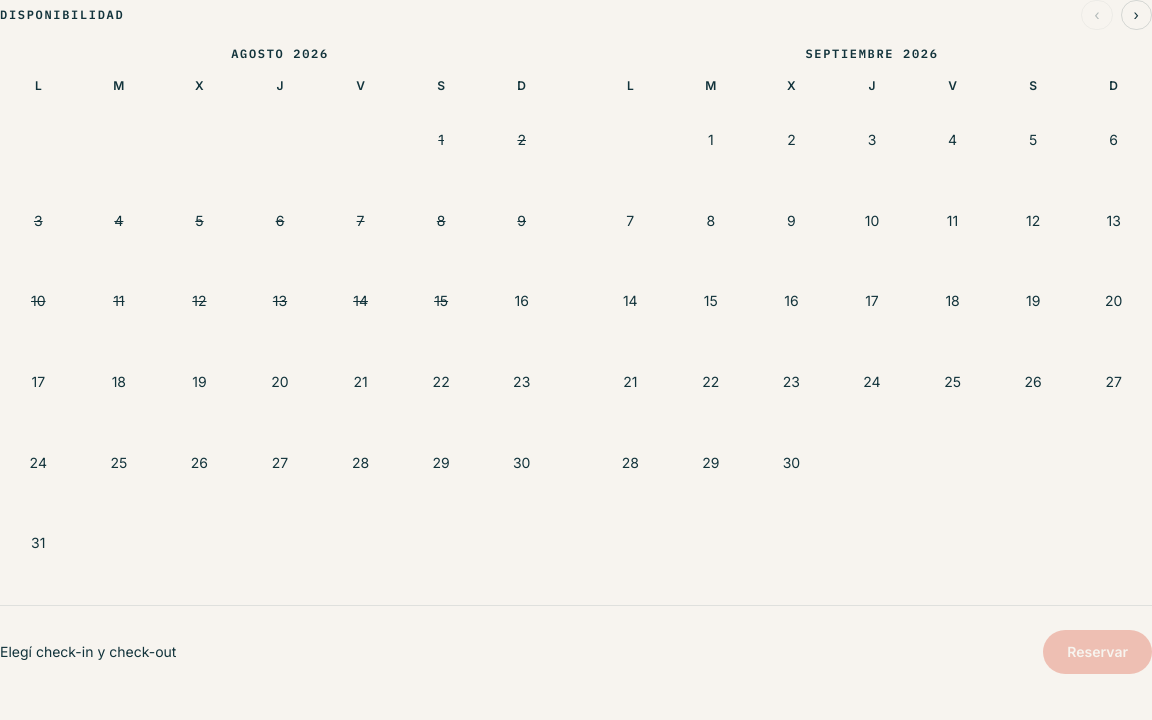
Test: AvailabilityCalendar — flujo de reserva completo › precarga los datos de contacto si se pasan
The image size is (1152, 720).
Click the button "20" below "Agosto". click: (280, 382)
box: top-left (242, 344), bottom-right (318, 420)
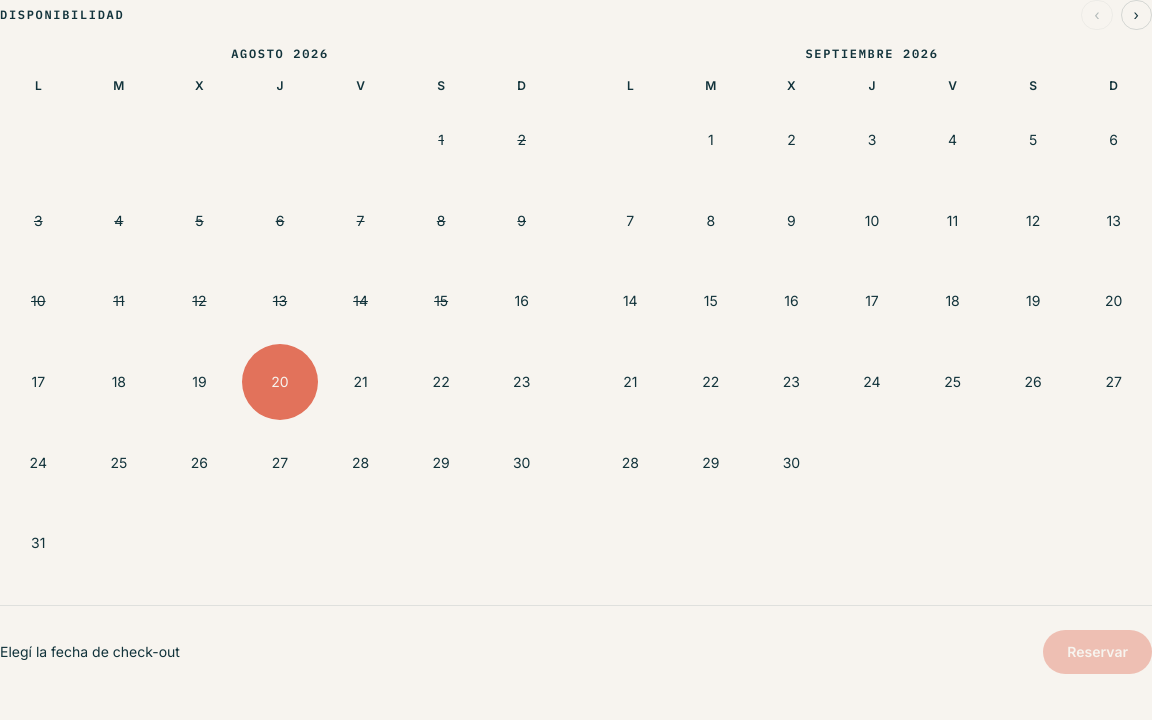
Click the button "23" below "Agosto". click: (522, 382)
box: top-left (483, 344), bottom-right (560, 420)
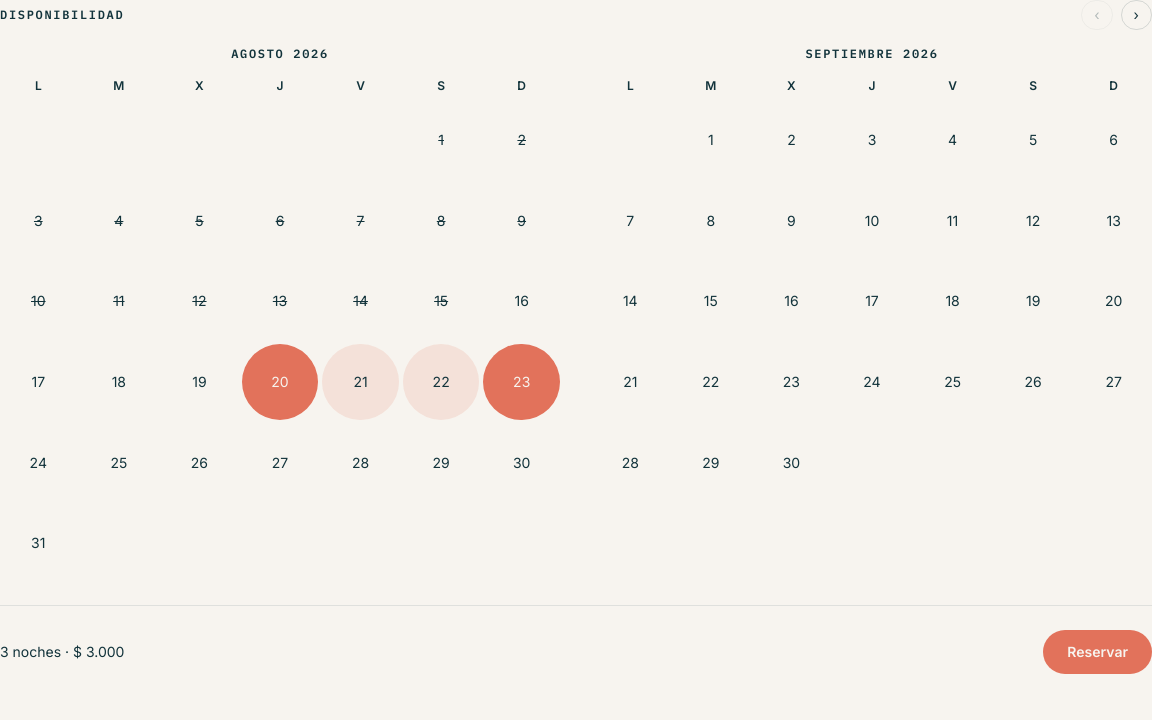
Click the button "Reservar". click: (1098, 652)
box: top-left (1043, 630), bottom-right (1151, 674)
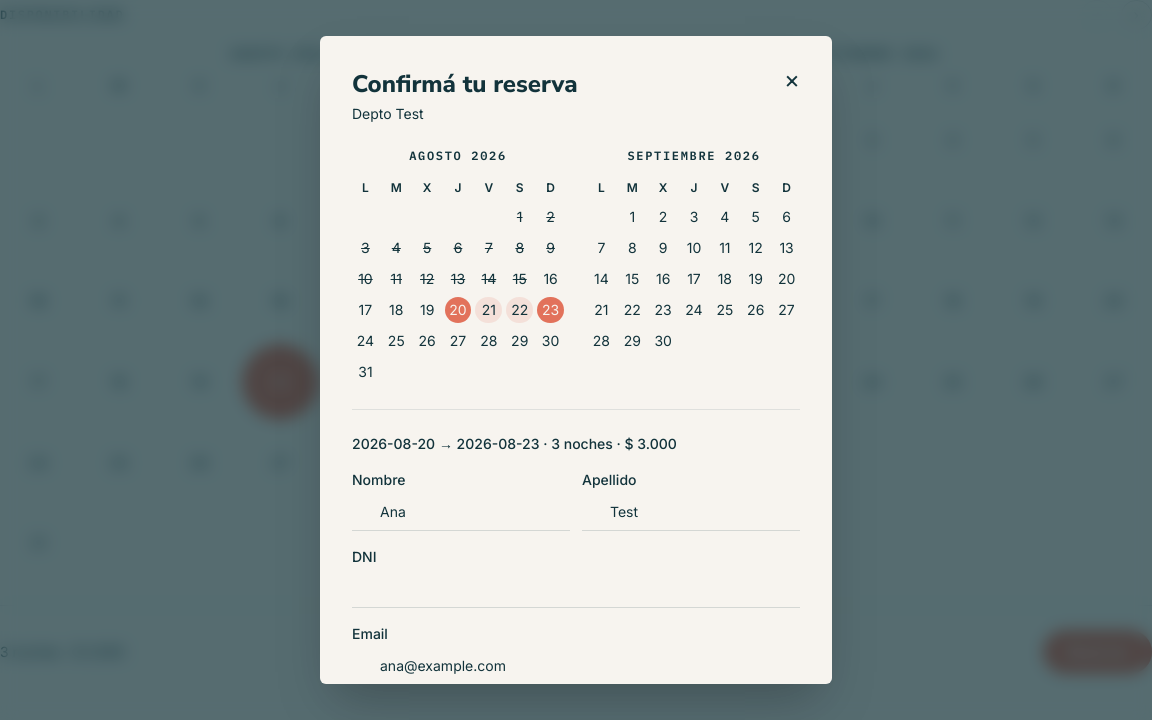
Result: the field labelled "Nombre" holds "Ana" at top-left (352, 494), bottom-right (570, 531)
Result: the field labelled "Email" holds "ana@example.com" at top-left (352, 648), bottom-right (800, 684)
